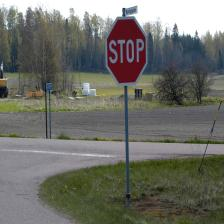Stop-sign: (104, 15, 150, 87)
